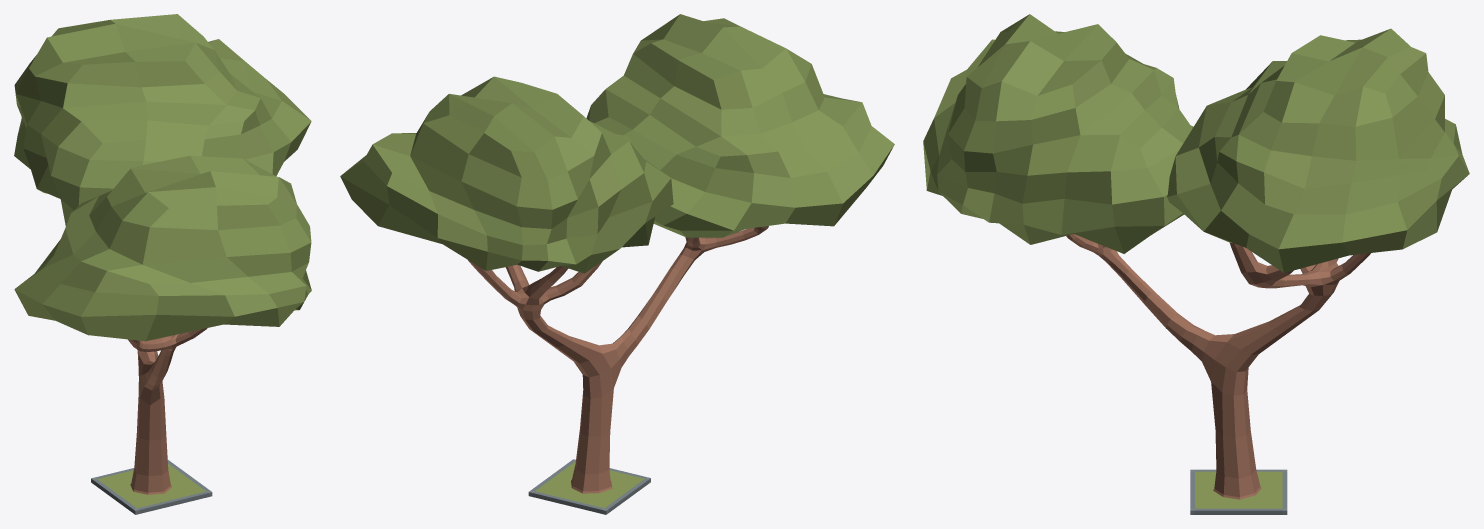
Rendered from Tree_2.glb.
3 renders of one model, left to right at view 1: azimuth 30°, elevation 25°; view 2: azimuth 150°, elevation 25°; view 3: azimuth 270°, elevation 25°, orthographic. The views are drawn at different scales.
Visible parts, largest first — view 1: CommonTree_1, base.001; view 2: CommonTree_1, base.001; view 3: CommonTree_1, base.001.
Boxes of the visible parts, x1,y1,x2,y2 form: CommonTree_1: (14,14,311,494); base.001: (91,460,212,514); CommonTree_1: (340,14,894,493); base.001: (528,459,650,514); CommonTree_1: (923,14,1469,499); base.001: (1190,469,1287,514).
Size of the model in its own units: 1.62 by 1.74 by 1.88.
Materials: 4 (1 with a texture image).
